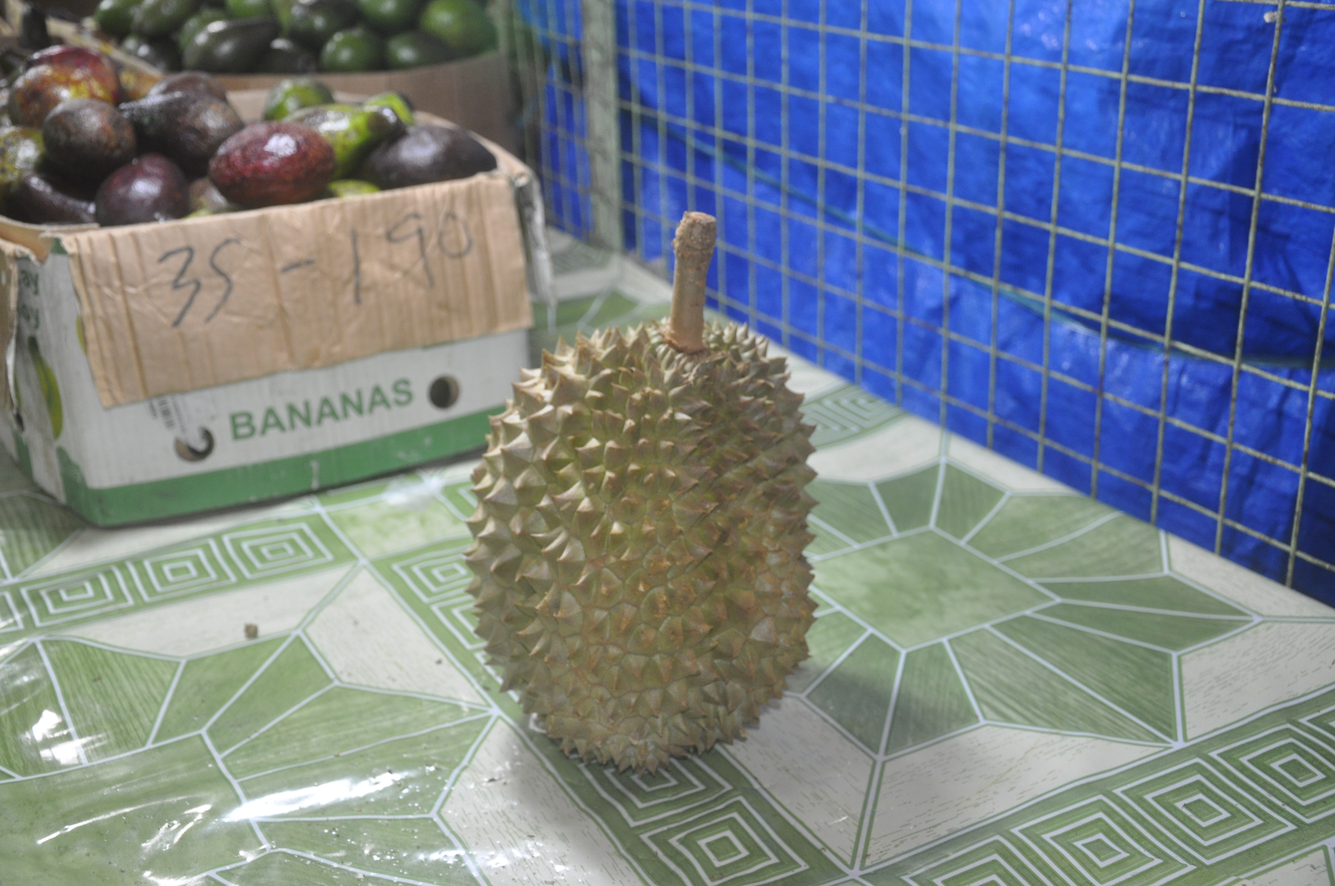mature: (466, 293, 815, 773)
